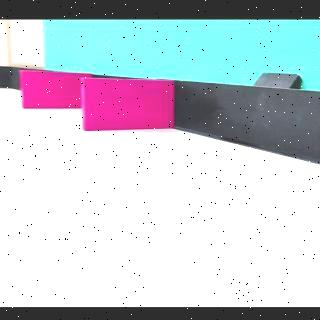xparking: (84, 80, 173, 130), (22, 74, 82, 108)
